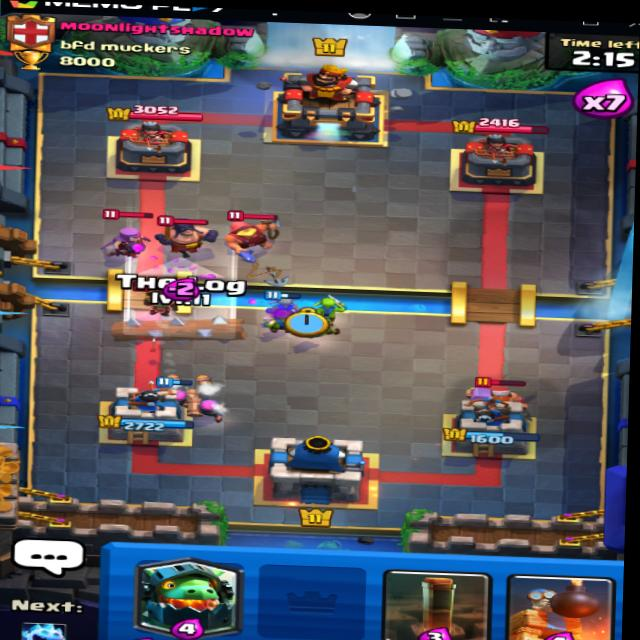Executioner: (153, 199, 231, 262)
Fisherman: (202, 212, 292, 261)
Littleprince: (131, 275, 187, 322)
Lumberjack: (461, 369, 528, 415)
Motherwitch: (94, 211, 157, 261)
